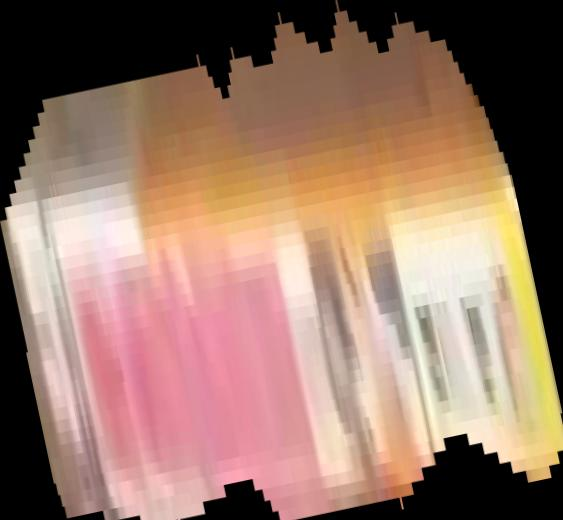flat: (1, 1, 563, 520)
